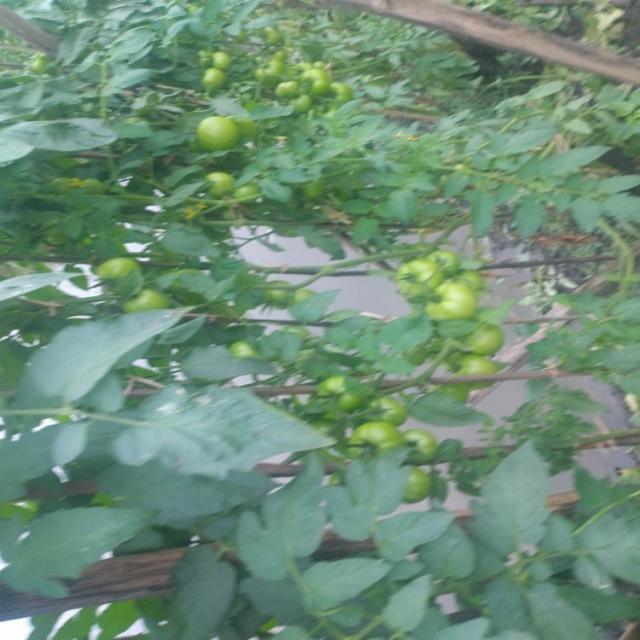tomato: (392, 266, 501, 335), (407, 218, 479, 300), (375, 244, 456, 316), (104, 266, 180, 335), (448, 304, 518, 378), (247, 60, 316, 121), (85, 242, 150, 305), (192, 94, 246, 164), (307, 362, 369, 422), (283, 58, 348, 115), (312, 55, 363, 127), (399, 410, 447, 484), (184, 50, 248, 104), (450, 340, 510, 396), (341, 410, 395, 472), (192, 29, 243, 89), (365, 383, 415, 439), (389, 459, 441, 510), (187, 154, 233, 211), (293, 43, 333, 103), (227, 169, 273, 215)
